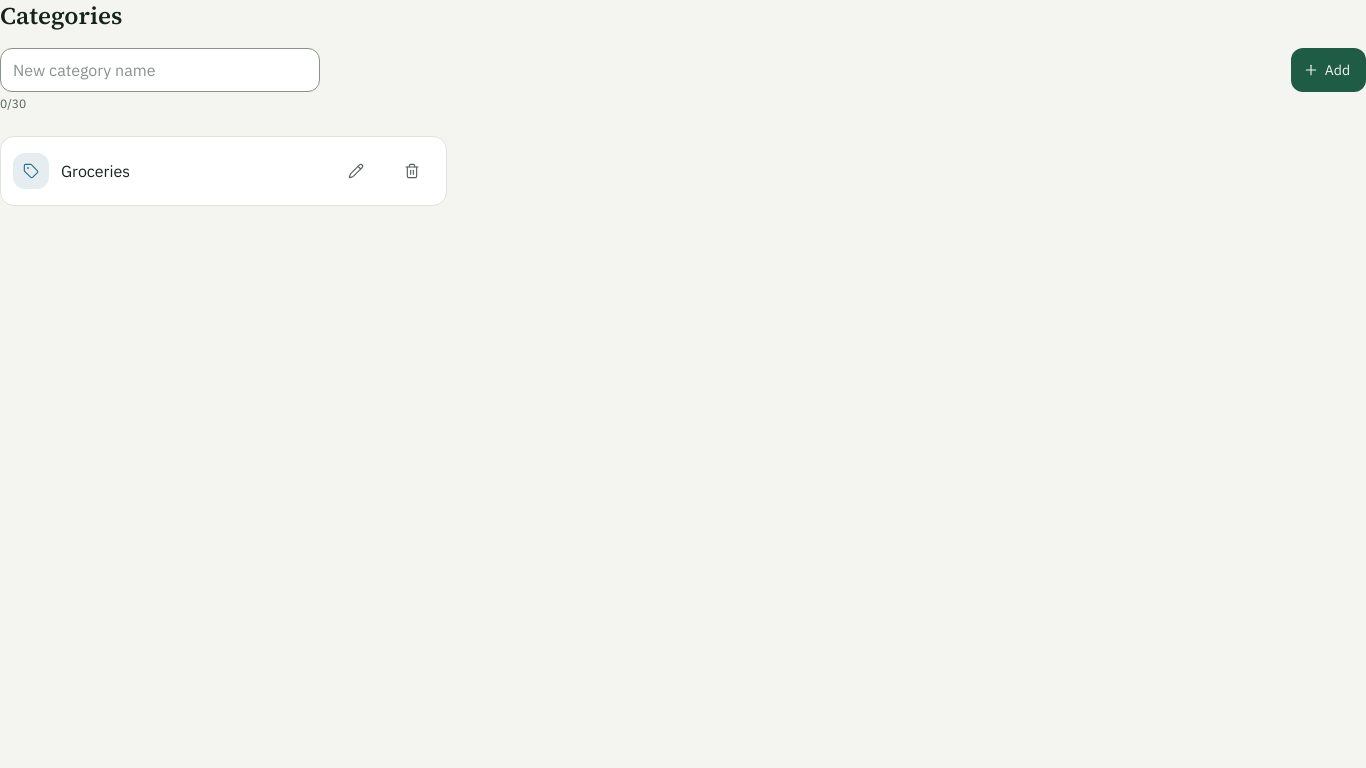
CategoriesPage delete confirmation › asks for confirmation before deleting, naming the category
Check: the text "Groceries" is shown, box [61,161,130,181]
Click the button named "Delete" at (412,171), box [390,149,434,193]
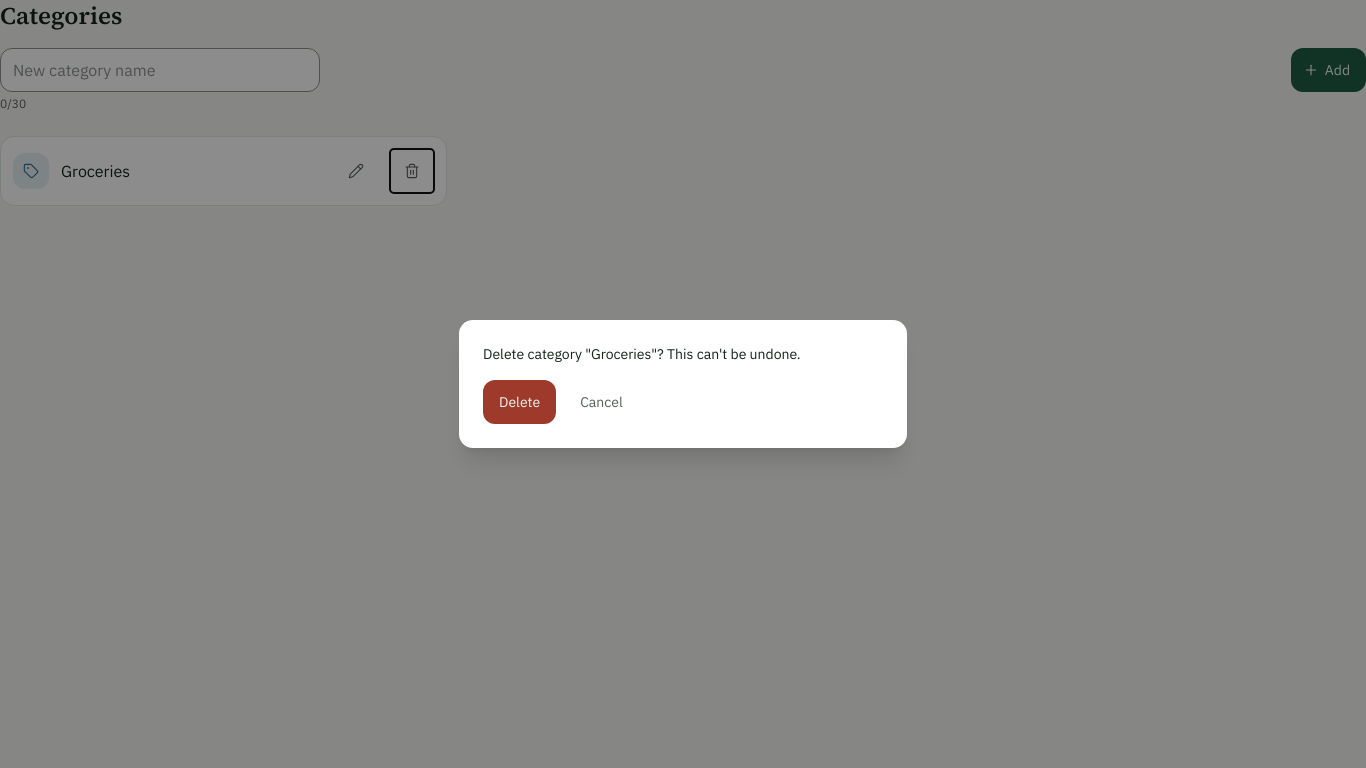
Check: the text "Delete category \"Groceries\"? This can't be undone." is shown, box [483,345,801,363]
